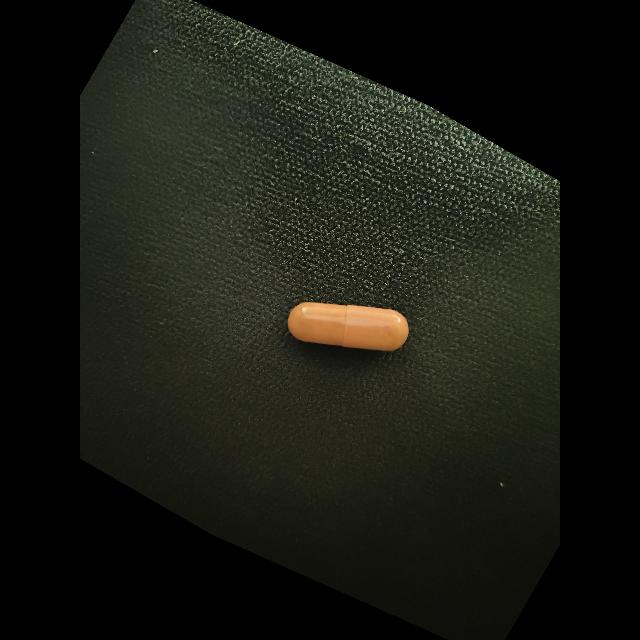Intact Capsule: (288, 302, 409, 351)
